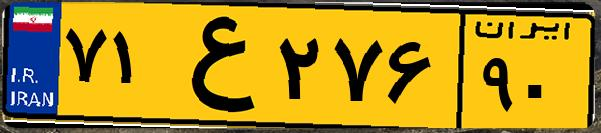0: (525, 38, 570, 115)
1: (110, 28, 158, 98)
2: (270, 28, 330, 110)
6: (385, 28, 445, 110)
7: (330, 28, 385, 110), (57, 26, 110, 100)
9: (475, 38, 525, 113)
ع: (158, 12, 270, 120)
